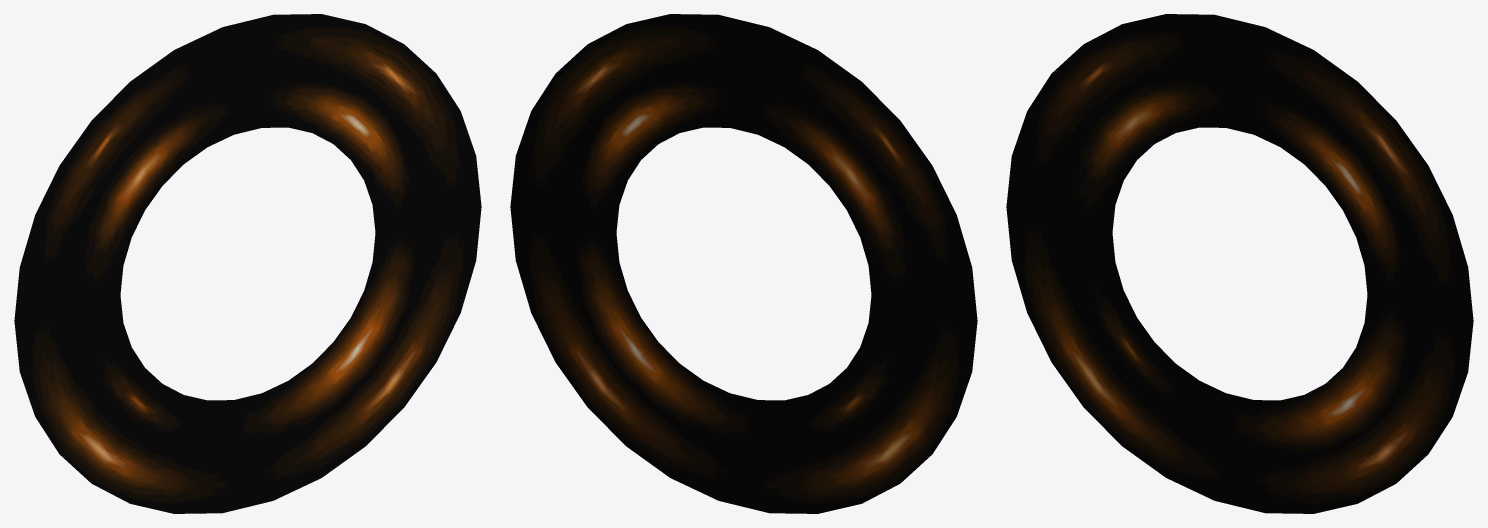
The model's file is tx_knight_shengqi_keep.obj.
The picture shows the model from 3 angles, left to right: view 1: azimuth 30°, elevation 25°; view 2: azimuth 150°, elevation 25°; view 3: azimuth 330°, elevation 25°; orthographic projection.
Parts seen in each view (by area): view 1: Plane03; view 2: Plane03; view 3: Plane03.
Boxes of the visible parts, <box> form: Plane03: <box>14,14,481,513</box>; Plane03: <box>510,14,977,513</box>; Plane03: <box>1006,14,1473,513</box>.
Bounding box in the file's own units: 43.72 × 43.46 × 0.
1 material, 1 textured.
